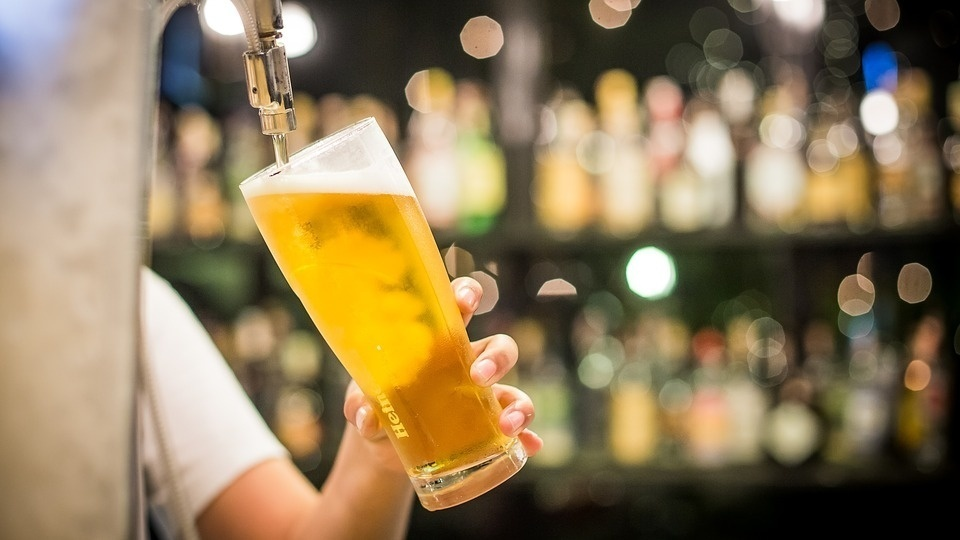whiskey: (243, 115, 552, 502)
